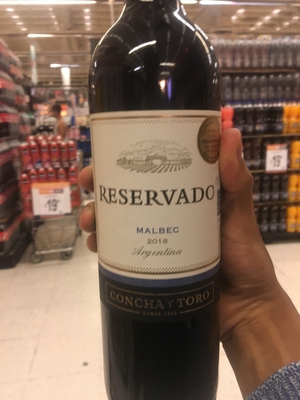reservado malbec: (81, 5, 232, 400)
